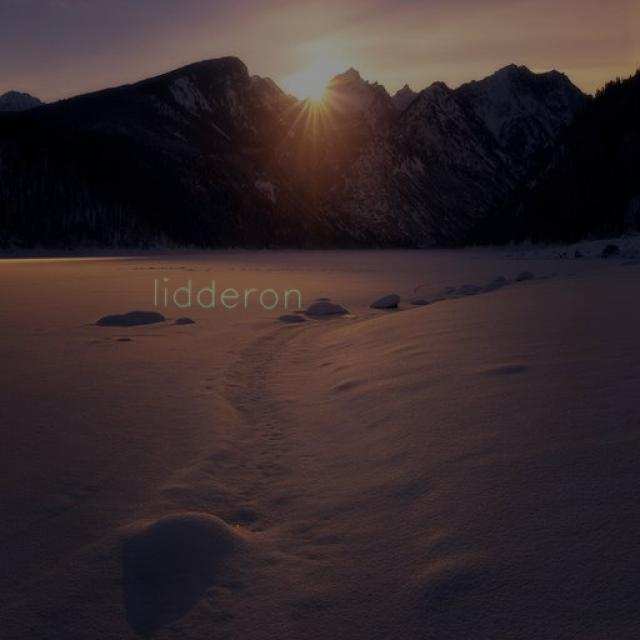watermark: (141, 276, 331, 315)
